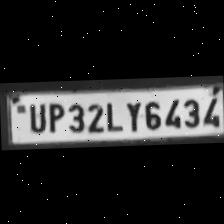2: (84, 98, 104, 132)
3: (178, 94, 200, 128), (64, 99, 84, 132)
4: (160, 94, 182, 128), (199, 92, 221, 125)
6: (140, 96, 160, 130)
L: (102, 97, 122, 131)
P: (44, 98, 64, 132)
U: (24, 99, 46, 132)
Y: (121, 96, 141, 130)
